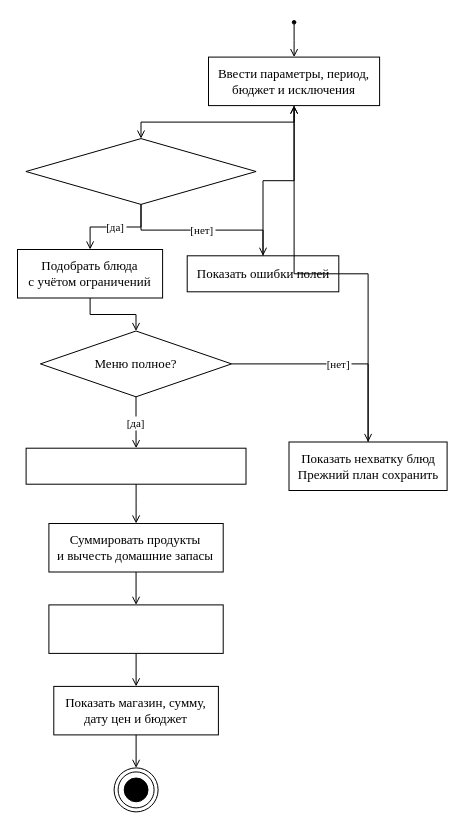
Some shapes in this 465 by 830 pixel diagram are drawn without their labels. The centre of each missing label's shape, as x and y in pixels:
"Ввод корректен?" belongs at pixel 140 171.
"Рассчитать упаковки и сравнить полные корзины" belongs at pixel 135 628.
"Сохранить план одной транзакцией" belongs at pixel 135 465.
